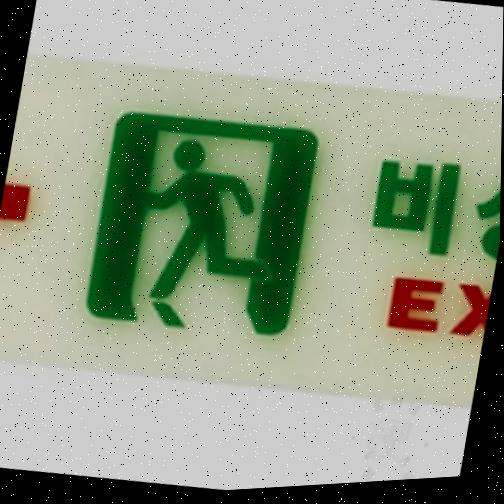emergency_exit: (1, 1, 502, 493), (85, 110, 320, 336)
